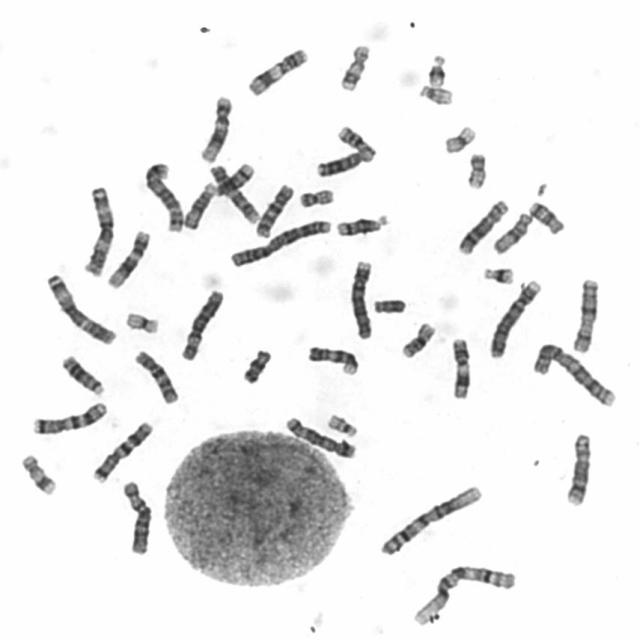A1: (377, 483, 482, 558), (410, 562, 518, 628)
A2: (531, 342, 617, 408), (229, 221, 331, 269)
A3: (46, 274, 118, 346), (81, 184, 115, 278)
B4: (488, 279, 541, 359), (348, 259, 374, 340)
B5: (285, 416, 357, 460), (143, 162, 185, 234)
C10: (133, 348, 181, 406), (254, 183, 295, 240)
C11: (246, 48, 312, 97), (447, 338, 472, 400)
C12: (106, 228, 150, 290), (199, 96, 233, 165)
C6: (180, 290, 226, 363), (120, 481, 156, 558)
C7: (92, 421, 154, 484), (32, 402, 107, 438)
C8: (456, 200, 509, 256), (563, 432, 593, 507)
C9: (208, 164, 261, 224), (305, 345, 360, 379)
D13: (61, 355, 106, 397), (314, 152, 372, 178)
D14: (210, 161, 254, 199), (336, 212, 390, 238)
D15: (491, 212, 534, 256), (181, 183, 218, 230)
E16: (400, 320, 436, 359), (337, 126, 375, 156)
E17: (337, 40, 376, 93), (20, 452, 58, 498)
E18: (240, 345, 275, 387), (527, 200, 564, 236)
F19: (443, 125, 478, 154), (125, 311, 161, 337)
F20: (299, 186, 334, 210), (467, 153, 486, 190)
G21: (424, 53, 450, 87), (482, 264, 516, 288)
G22: (418, 82, 454, 106), (326, 411, 358, 437)
X: (570, 276, 602, 354)
Y: (372, 296, 406, 316)
